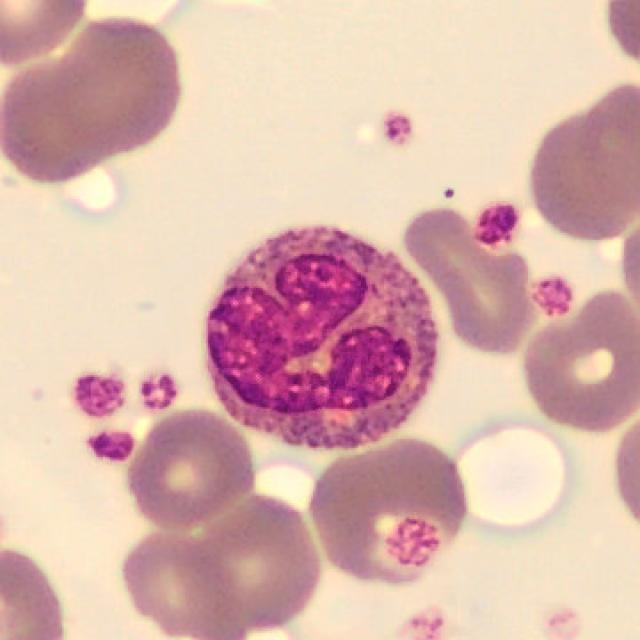Neutrofilo segmentado: (205, 225, 441, 451)
